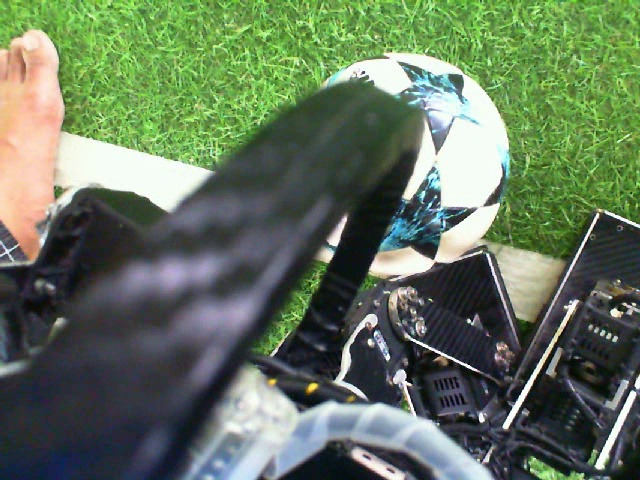ball: (359, 51, 513, 284)
